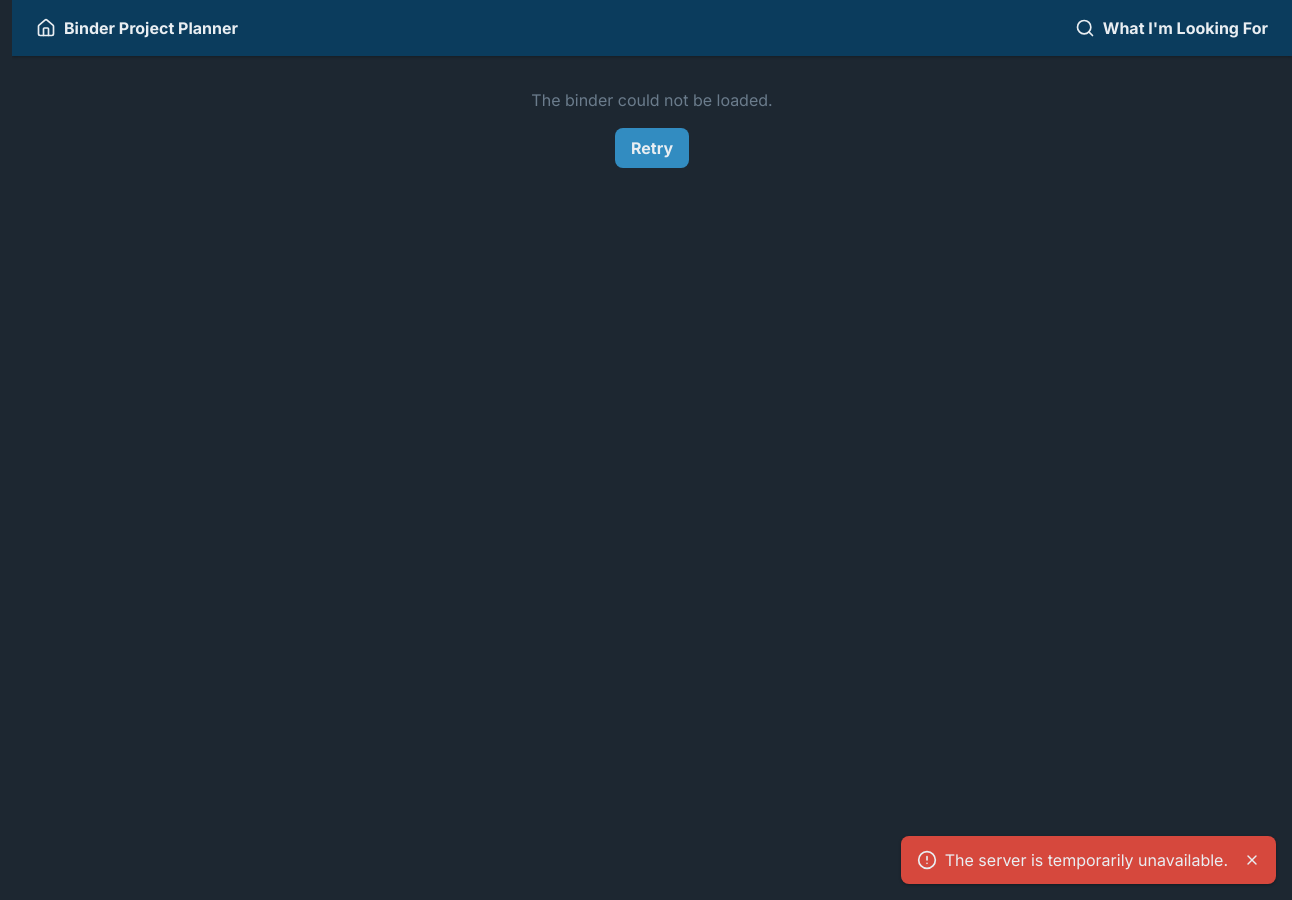
BinderRouteProvider › re-runs all three requests when Retry is selected after a failure
This screenshot has width=1292, height=900.
Step 1. Click the button "Retry" → (652, 148), box [615, 128, 689, 168]
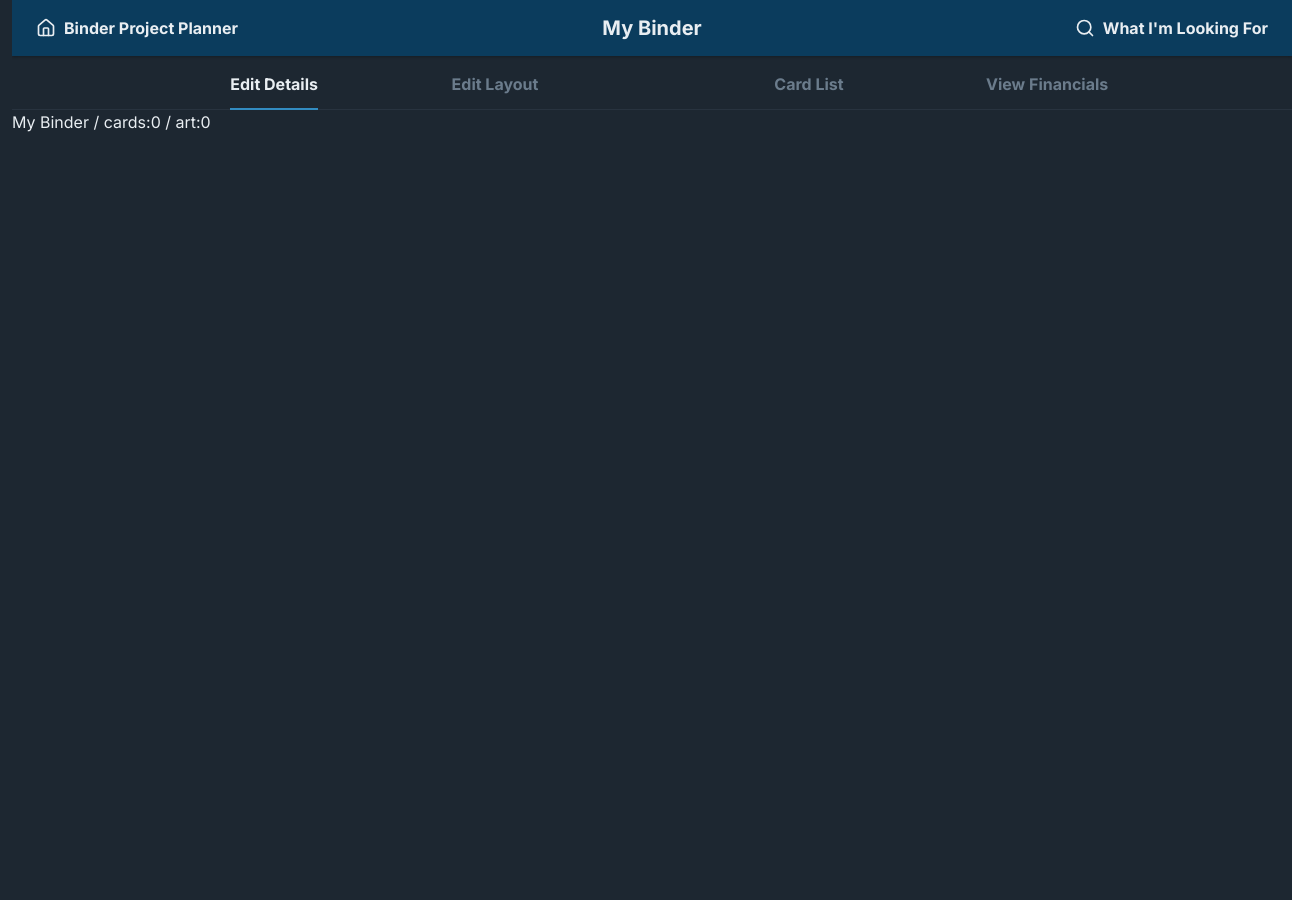
expect the heading "My Binder" is shown: met, box [602, 13, 702, 43]
